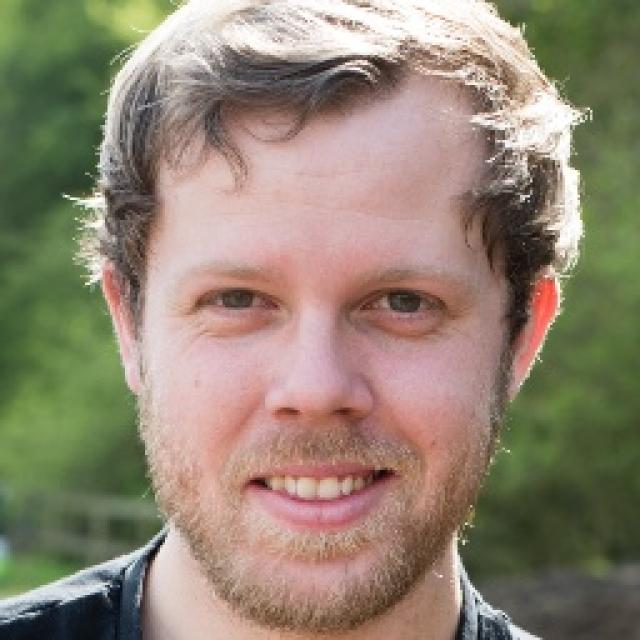earlobe: (496, 348, 530, 407), (118, 343, 148, 397)
eye: (197, 284, 283, 314), (356, 290, 444, 314)
nose: (266, 399, 367, 455)
wholeear: (498, 263, 562, 407), (100, 258, 148, 398)
